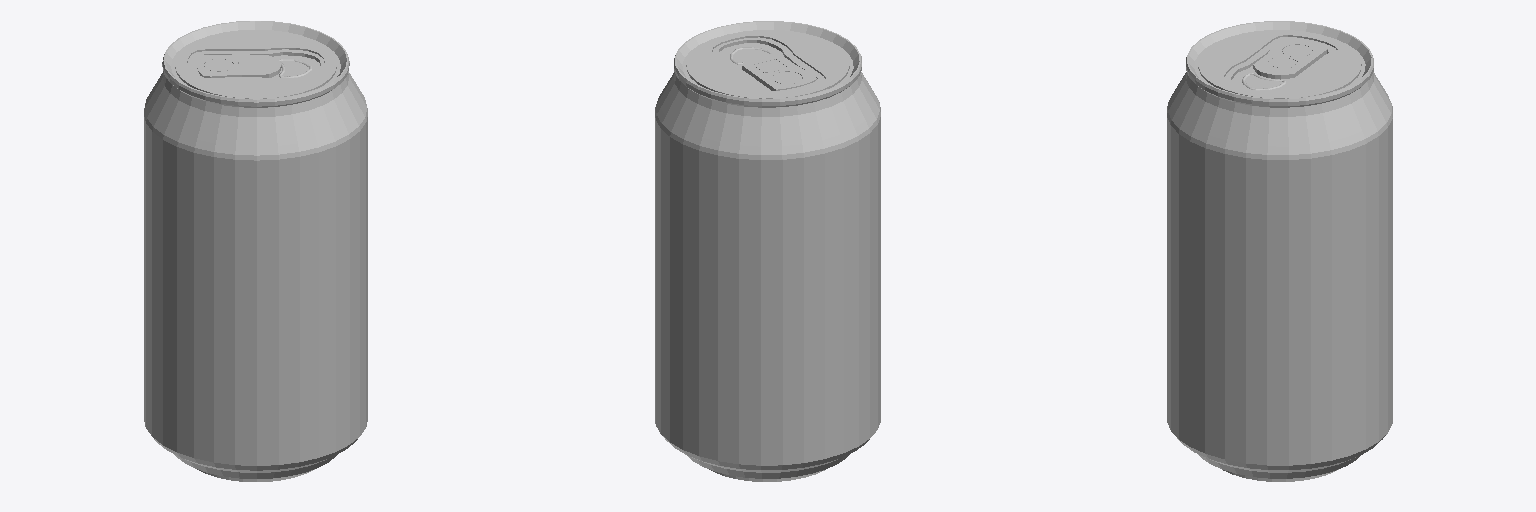
The model's file is coke_can.obj.
3 views of the same model, side by side, from view 1: azimuth 30°, elevation 25°; view 2: azimuth 150°, elevation 25°; view 3: azimuth 270°, elevation 25° (orthographic).
Visible parts, largest first — view 1: Plane; view 2: Plane; view 3: Plane.
Part boxes in pixels (x1,y1,x2,y2): Plane: (144,21,367,481); Plane: (655,21,880,481); Plane: (1167,21,1392,481).
Bounding box in the file's own units: 2.18 × 4.17 × 2.19.